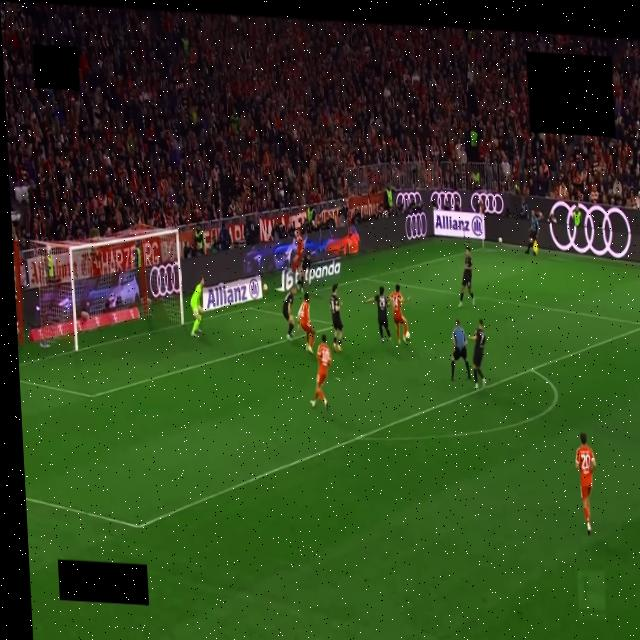ball: (405, 332, 410, 340)
player: (576, 433, 595, 535), (311, 335, 331, 409), (366, 286, 392, 342), (390, 285, 409, 343), (471, 320, 485, 389), (299, 293, 315, 352), (459, 248, 474, 306), (330, 284, 342, 351), (191, 276, 204, 337), (282, 287, 296, 340), (292, 231, 304, 288), (300, 253, 311, 290)
referee: (451, 320, 470, 380)
